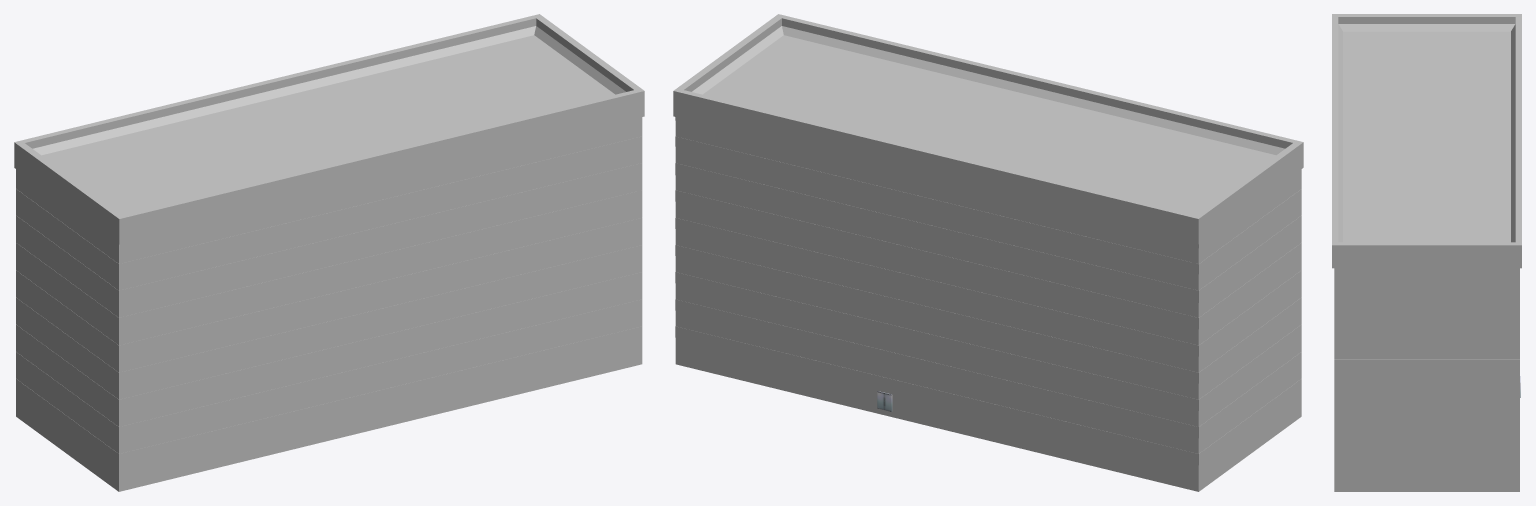
File: Building_03.FBX
3 views of the same model, side by side, from view 1: azimuth 30°, elevation 25°; view 2: azimuth 150°, elevation 25°; view 3: azimuth 270°, elevation 25° (orthographic). The views are drawn at different scales.
Parts seen in each view (by area): view 1: Box392; view 2: Box392; view 3: Box392.
Boxes of the visible parts, x1,y1,x2,y2 form: Box392: (14,14,644,491); Box392: (673,14,1303,491); Box392: (1332,14,1521,491).
Bounding box in the file's own units: 108 × 53.66 × 37.32.
